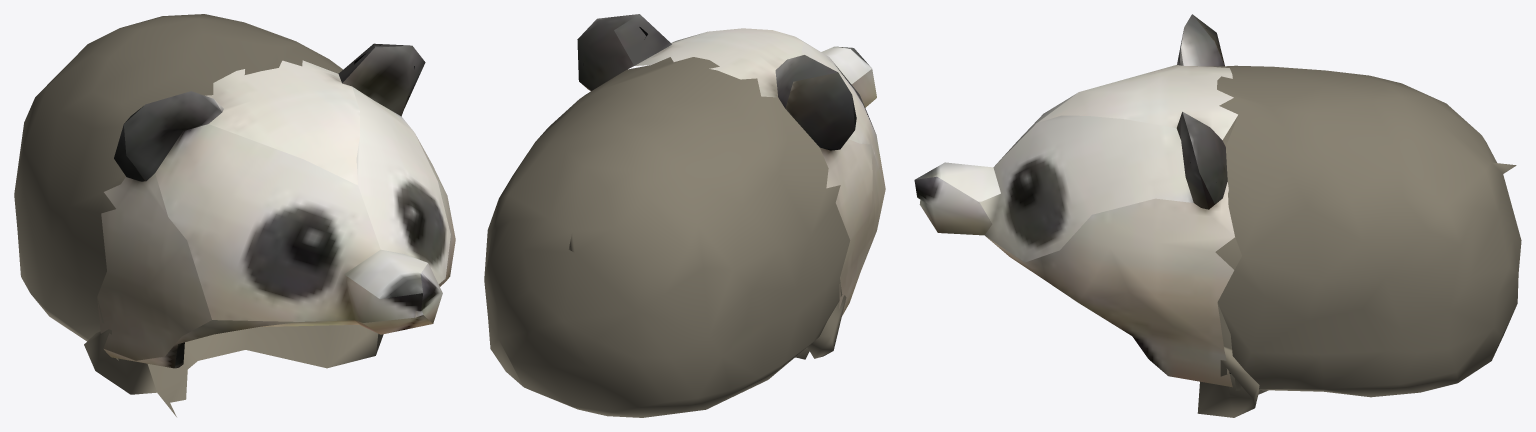
File: panda.glb
3 views of the same model, side by side, from view 1: azimuth 30°, elevation 25°; view 2: azimuth 150°, elevation 25°; view 3: azimuth 270°, elevation 25° (orthographic). The views are drawn at different scales.
Visible parts, largest first — view 1: geometry_0, HoodAnatomicalLining; view 2: geometry_0, HoodAnatomicalLining; view 3: geometry_0, HoodAnatomicalLining.
Part boxes in pixels (x1,y1,x2,y2): geometry_0: (14, 14, 455, 368); HoodAnatomicalLining: (84, 325, 383, 416); geometry_0: (484, 14, 885, 417); HoodAnatomicalLining: (795, 295, 846, 359); geometry_0: (914, 14, 1521, 397); HoodAnatomicalLining: (1197, 116, 1268, 417).
Bounding box in the file's own units: 0.5075 × 0.5104 × 0.904.
Materials: 2 (1 with a texture image).
